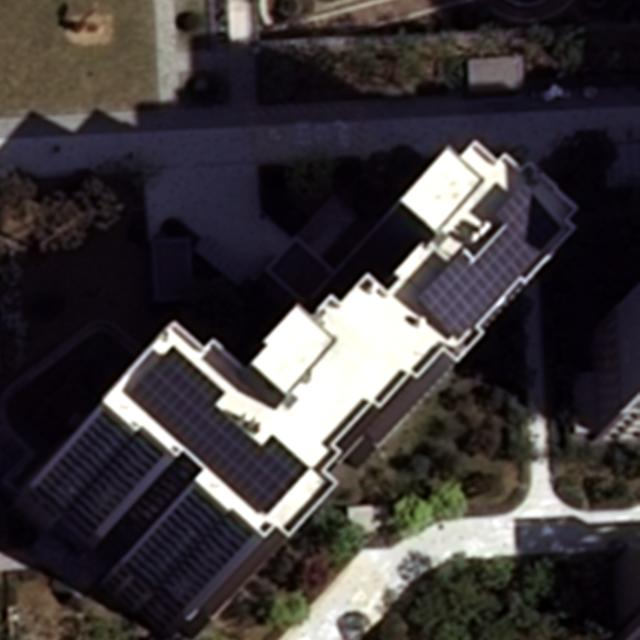panel: (128, 342, 311, 518), (415, 182, 565, 339)
